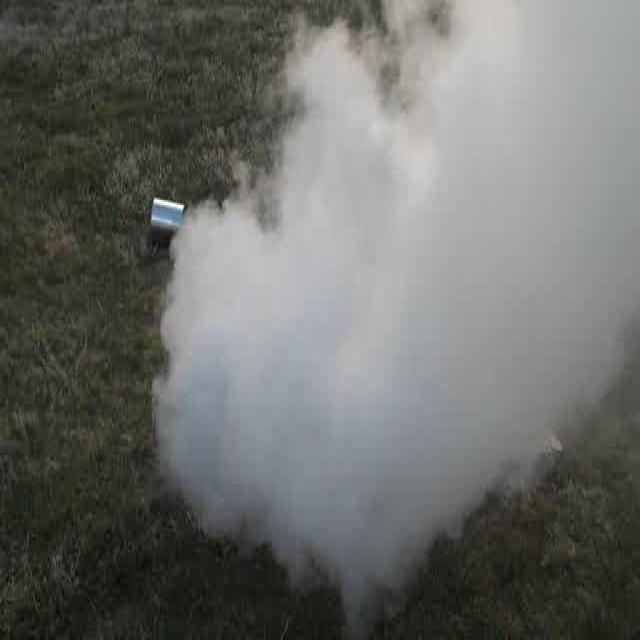Smoke: (187, 4, 638, 604)
